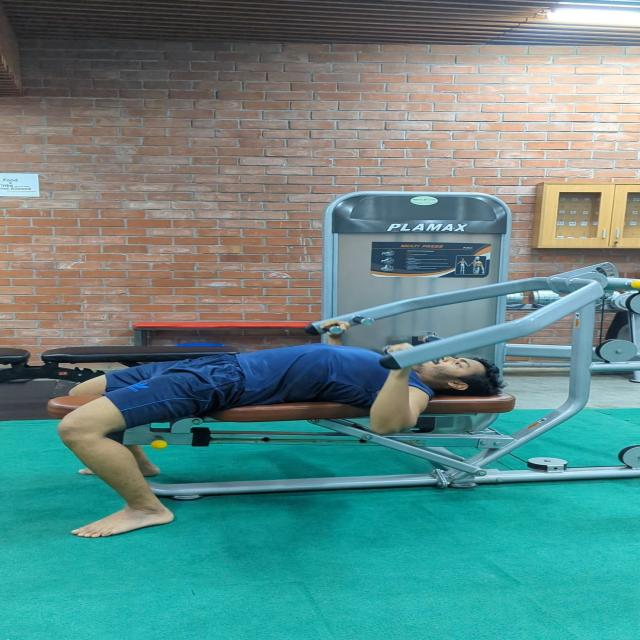Normal_BrenchPress: (48, 300, 510, 556)
